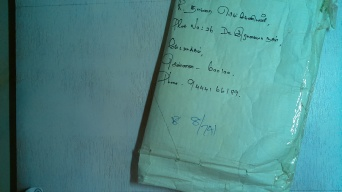l: (138, 1, 329, 190)
